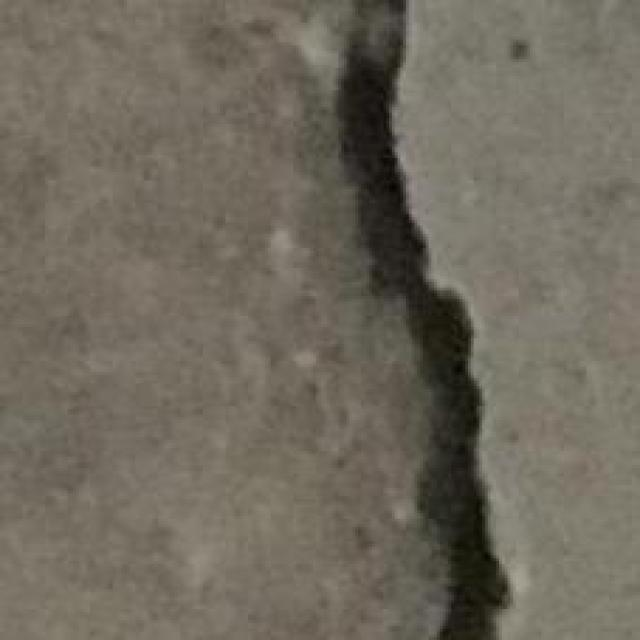Crack: (330, 0, 510, 637)
